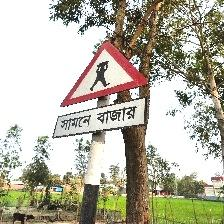Market-in-front: (52, 39, 149, 139)
